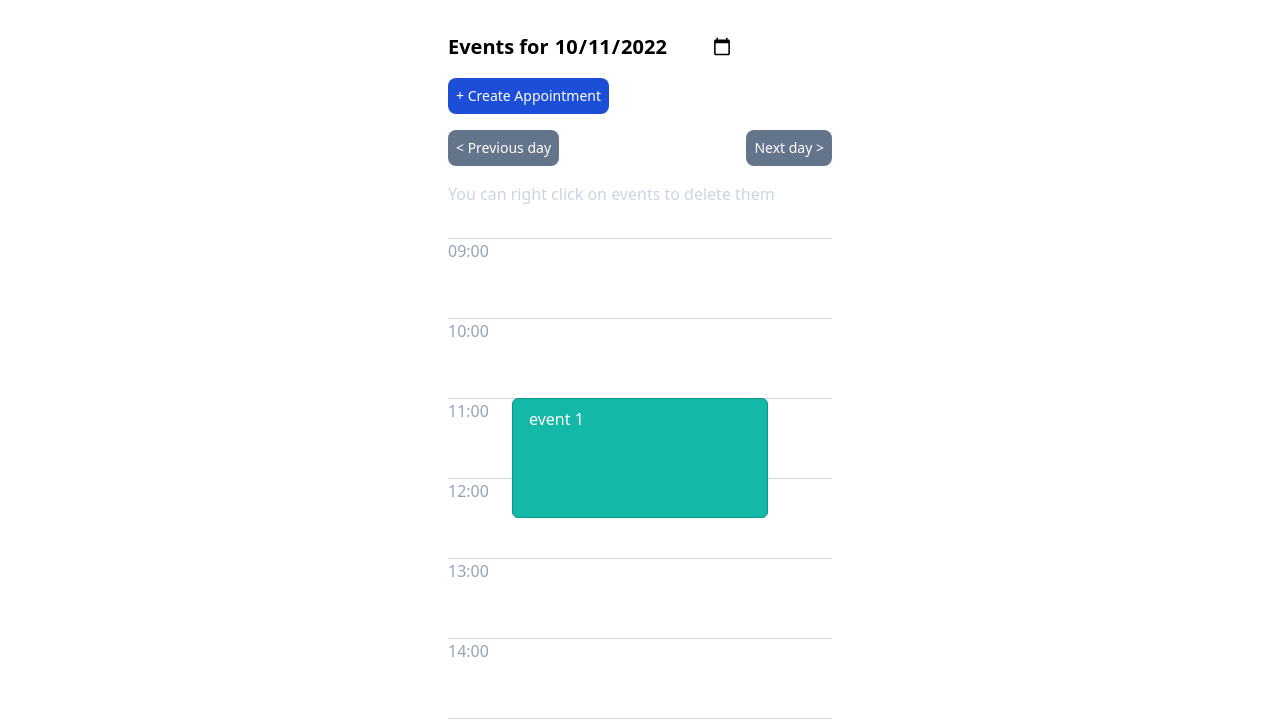
Test: Events page › should allow for creating an appointment
This screenshot has width=1280, height=720.
Click the button with test id "btn-show-create-event-modal": (528, 96) [448,78,609,114]
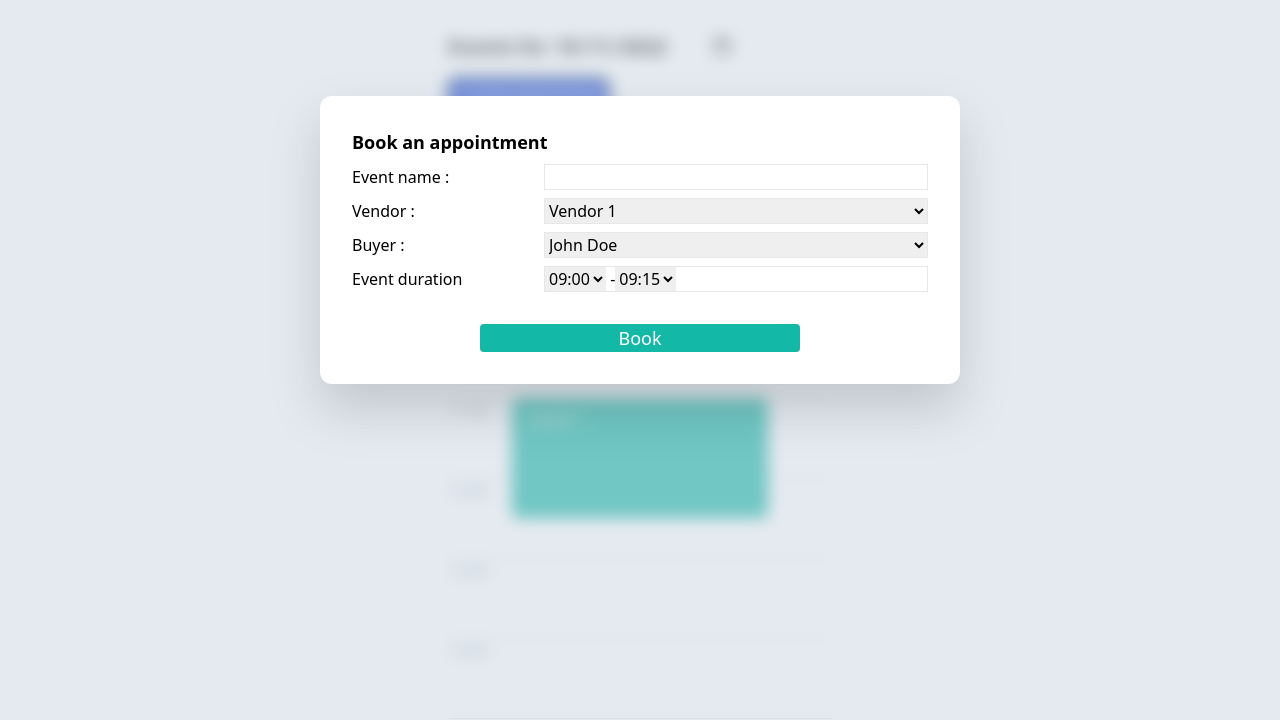
Result: the button with test id "submit" is shown at [480,324,800,352]
Result: the field with test id "input-title" is shown
In the field with test id "input-title": (736, 177) [544,164,928,190], type "Mon event"
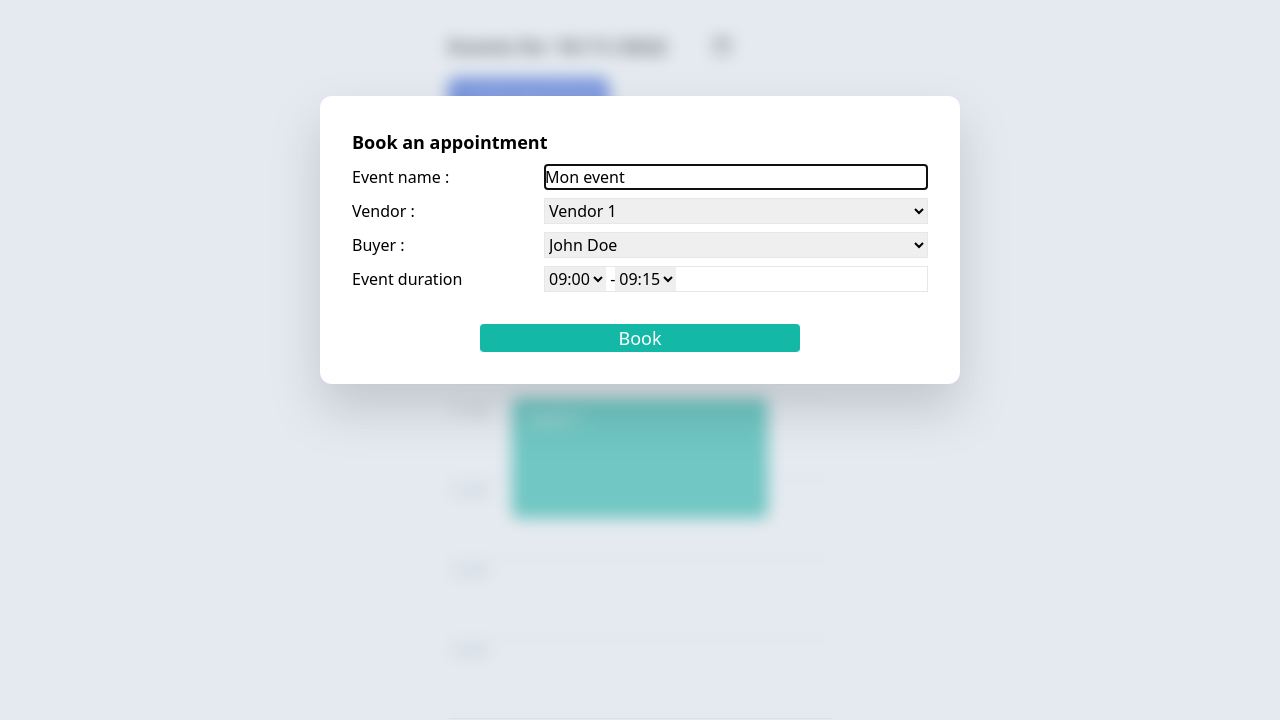
Click the button with test id "submit": (640, 338) [480,324,800,352]
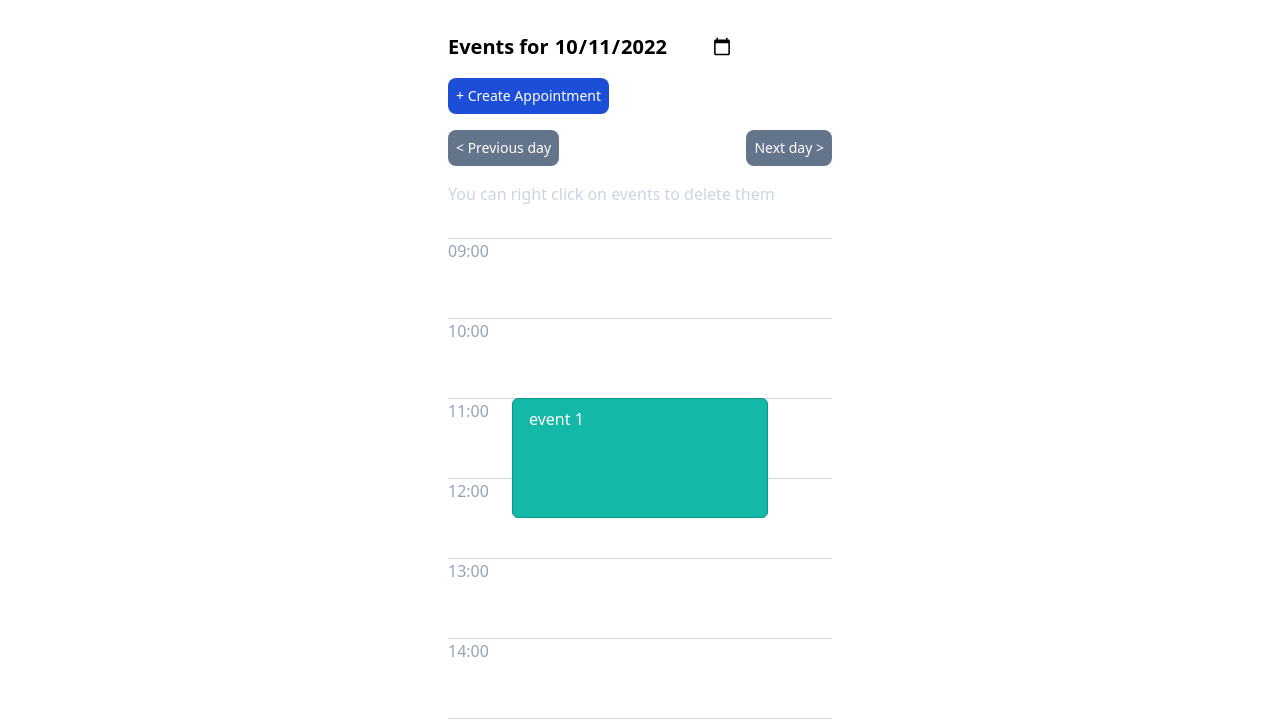
Result: the button with test id "submit" is gone
